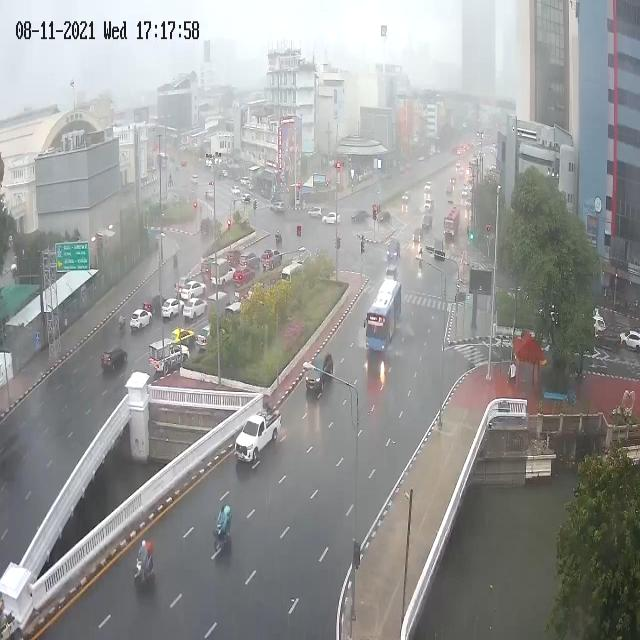Bus: (363, 279, 402, 353)
Car: (235, 403, 282, 463), (305, 352, 334, 397), (100, 343, 128, 378), (183, 296, 209, 322), (130, 308, 153, 332), (181, 280, 207, 300), (233, 263, 255, 285), (262, 250, 284, 272), (160, 299, 184, 317), (237, 252, 262, 268), (386, 236, 401, 262), (322, 210, 340, 228), (308, 206, 323, 218)
Cycle: (134, 528, 155, 594), (211, 500, 232, 556), (118, 312, 126, 339)
Truck: (210, 258, 236, 289)
